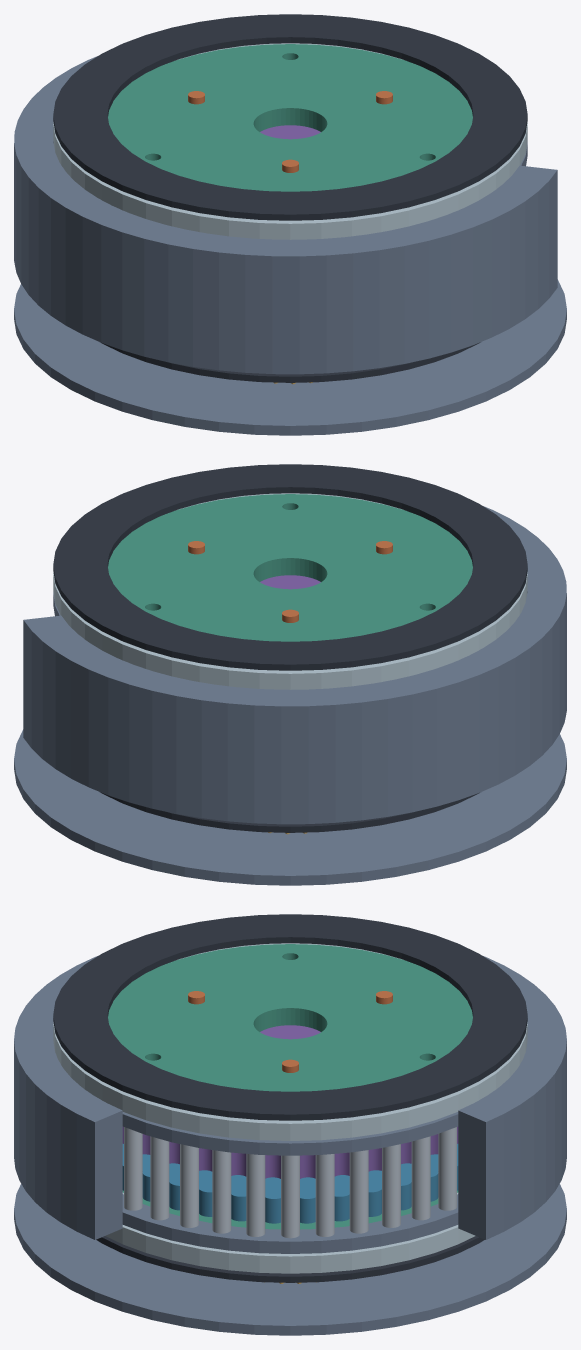
File: rv-reducer.glb
The picture shows the model from 3 angles, top to bottom: view 1: azimuth 30°, elevation 25°; view 2: azimuth 150°, elevation 25°; view 3: azimuth 270°, elevation 25°; orthographic projection.
Visible parts, largest first — view 1: housing-cutaway, output-flange-right, oil-seal-right, input-endcap, main-bearing-outer-right, oil-seal-left, cycloid-disc-b; view 2: housing-cutaway, output-flange-right, oil-seal-right, input-endcap, main-bearing-outer-right, oil-seal-left, cycloid-disc-b; view 3: output-flange-right, housing-cutaway, oil-seal-right, input-endcap, main-bearing-outer-right, fixed-pin-ring-left, main-bearing-outer-left, cycloid-disc-a, fixed-pin-ring-right, oil-seal-left, cycloid-disc-b, housing-pin-03 (+11 smaller).
Boxes of the visible parts, left/top/right/bottom form: housing-cutaway: left=14, top=56, right=557, bottom=374; output-flange-right: left=108, top=44, right=472, bottom=191; oil-seal-right: left=53, top=14, right=527, bottom=220; input-endcap: left=14, top=279, right=566, bottom=435; main-bearing-outer-right: left=53, top=122, right=527, bottom=239; oil-seal-left: left=101, top=342, right=480, bottom=382; cycloid-disc-b: left=260, top=125, right=320, bottom=139; housing-cutaway: left=23, top=506, right=566, bottom=824; output-flange-right: left=108, top=494, right=472, bottom=641; oil-seal-right: left=53, top=464, right=527, bottom=670; input-endcap: left=14, top=729, right=566, bottom=885; main-bearing-outer-right: left=53, top=572, right=527, bottom=689; oil-seal-left: left=100, top=792, right=479, bottom=832; cycloid-disc-b: left=260, top=575, right=320, bottom=589; output-flange-right: left=108, top=944, right=472, bottom=1091; housing-cutaway: left=14, top=956, right=566, bottom=1239; oil-seal-right: left=53, top=914, right=527, bottom=1120; input-endcap: left=14, top=1184, right=566, bottom=1335; main-bearing-outer-right: left=53, top=1022, right=527, bottom=1140; fixed-pin-ring-left: left=122, top=1194, right=458, bottom=1253; main-bearing-outer-left: left=105, top=1225, right=475, bottom=1273; cycloid-disc-a: left=122, top=1144, right=458, bottom=1223; fixed-pin-ring-right: left=54, top=1046, right=526, bottom=1155; oil-seal-left: left=96, top=1236, right=484, bottom=1282; cycloid-disc-b: left=122, top=1025, right=458, bottom=1178; housing-pin-03: left=349, top=1150, right=368, bottom=1233.
Size of the model in its own units: 0.204 by 0.1062 by 0.204.
